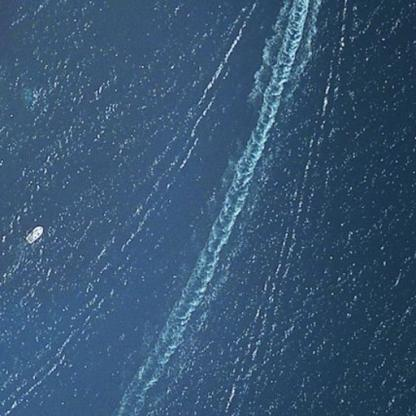ship: (22, 224, 45, 245)
